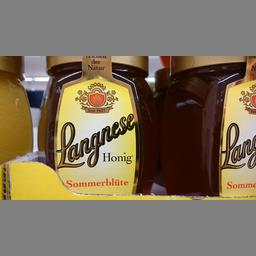honey: (38, 54, 156, 196)
